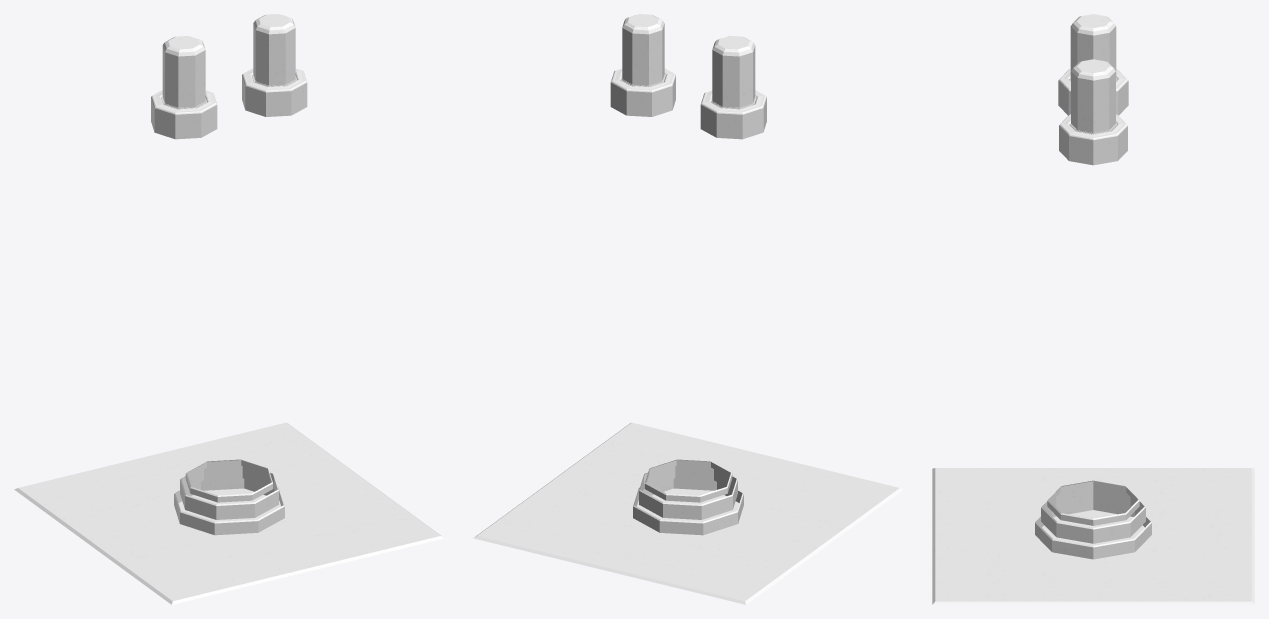
Rendered from POW_05.glb.
3 views of the same model, side by side, from view 1: azimuth 30°, elevation 25°; view 2: azimuth 150°, elevation 25°; view 3: azimuth 270°, elevation 25° (orthographic). The views are drawn at different scales.
Bounding box in the file's own units: 0.1363 × 0.2329 × 0.1363.
Materials: 1 (1 with a texture image).
